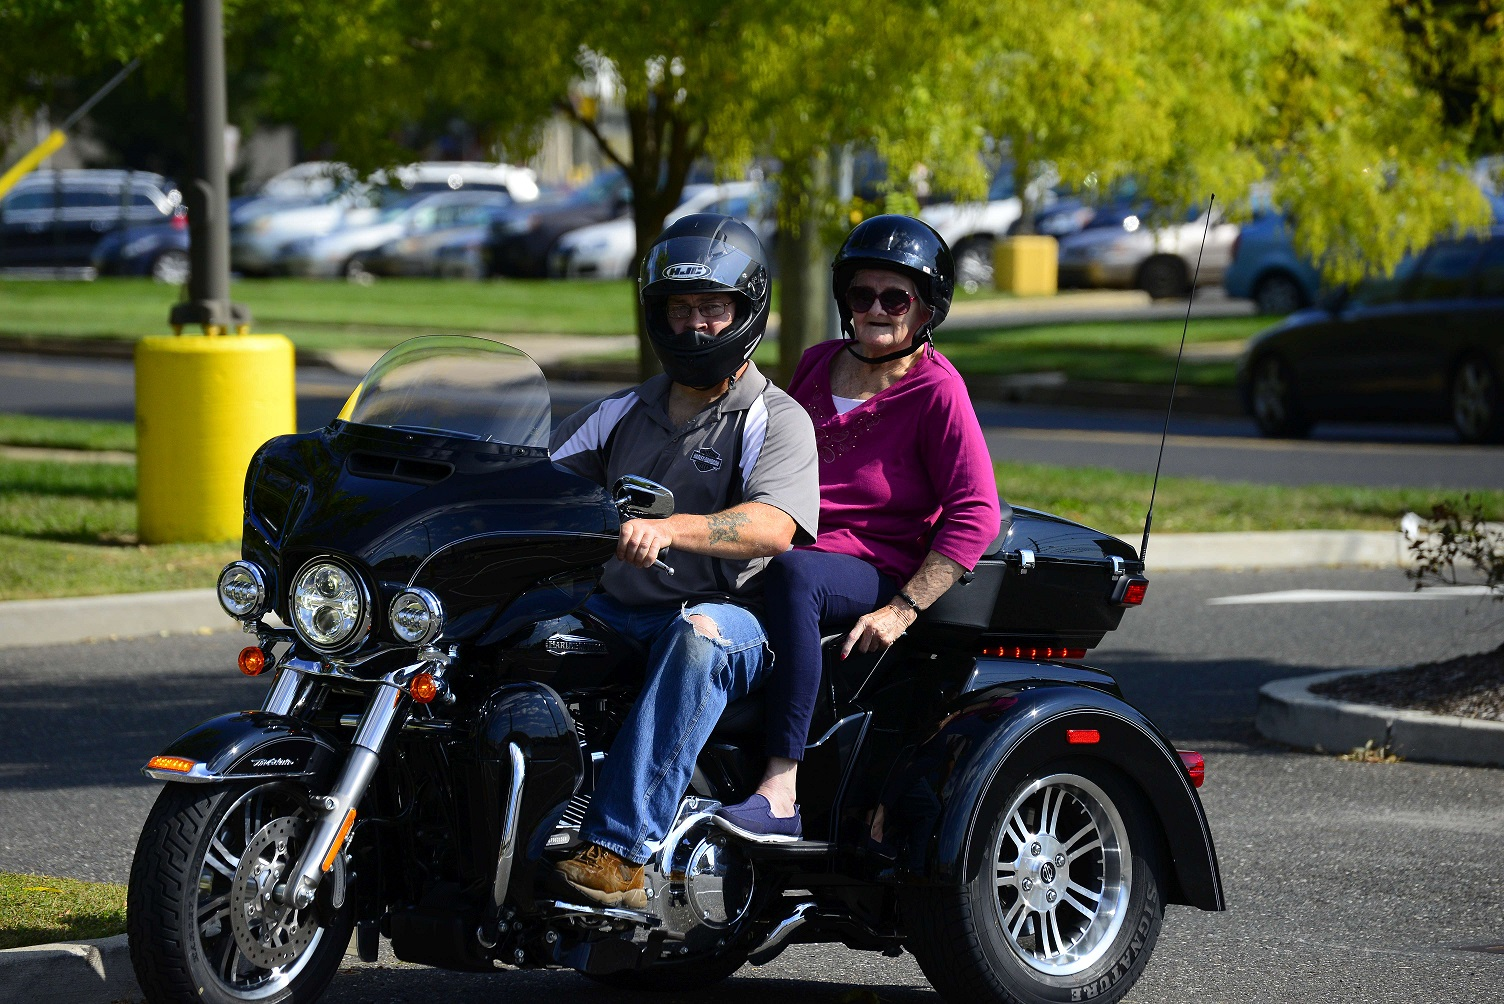helmet: (602, 179, 777, 399), (815, 201, 972, 368)
